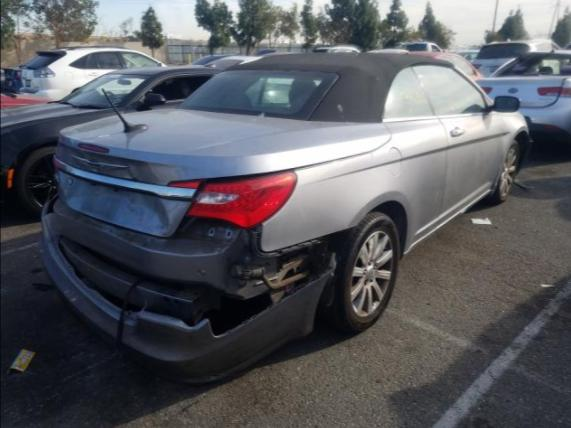Broken part: (37, 193, 360, 382)
Dent: (59, 154, 167, 230)
